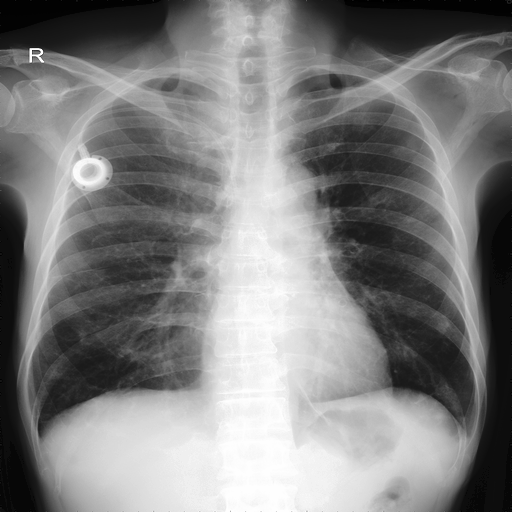Pleural thickening: (397, 129, 422, 159)
Pneumothorax: (389, 138, 418, 159), (349, 119, 381, 133)
